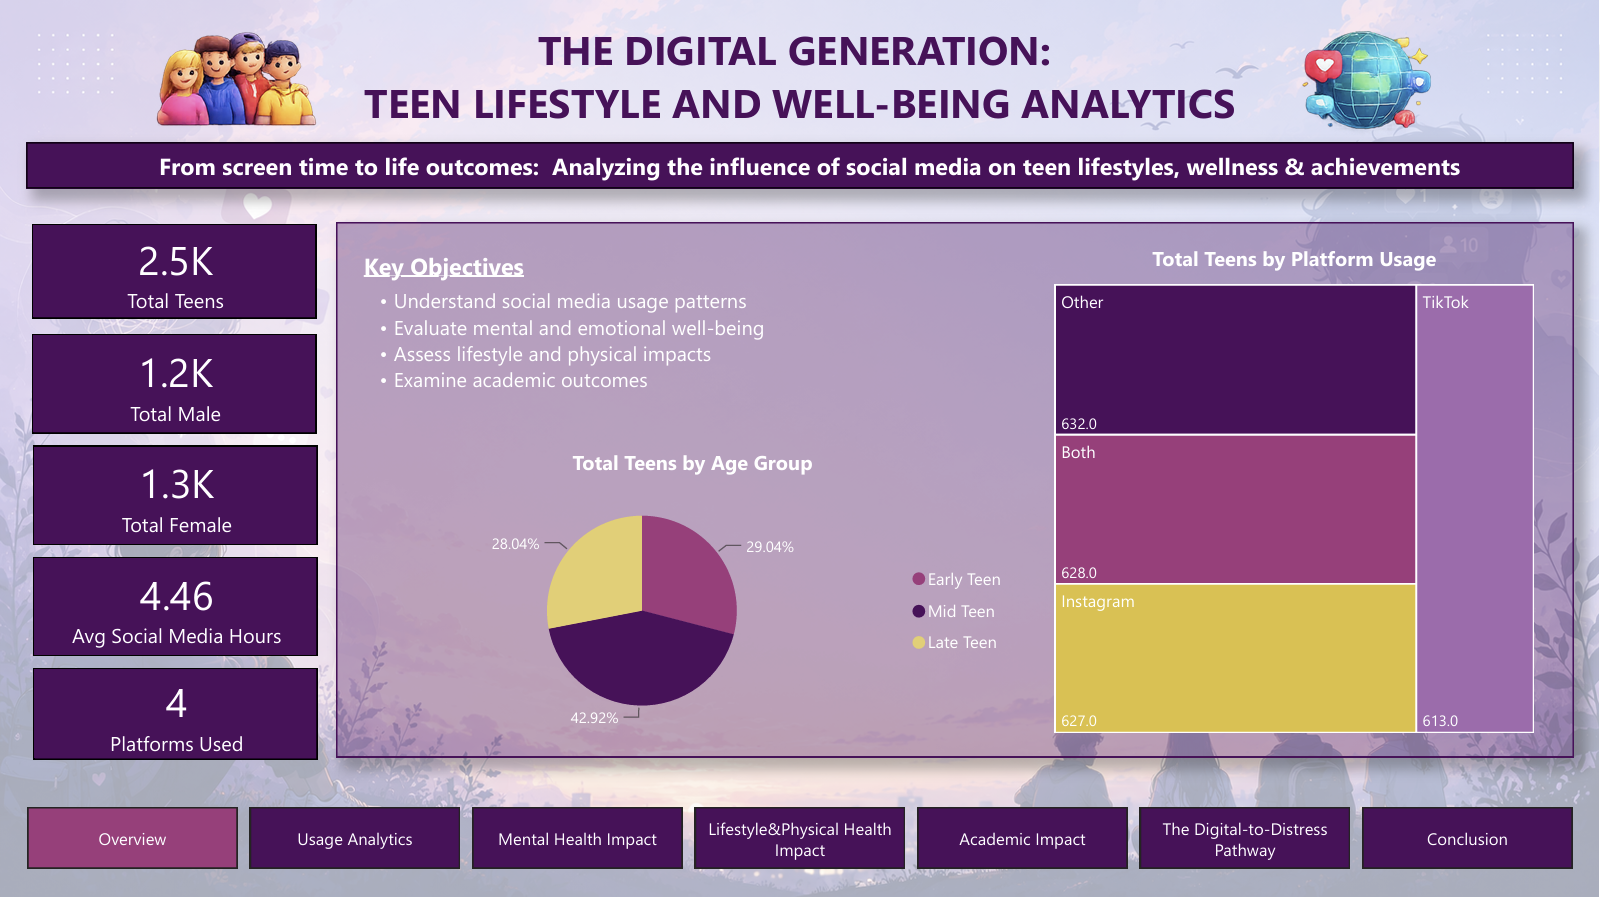

Layout of this report page (visuals, bound fields, positions):
{"tool":"powerbi","page":{"name":"Overview","canvas":[1280,720],"ordinal":0},"visuals":[{"type":"textbox","box":[21.5,11.3,1237.6,101.6],"z":0},{"type":"textbox","box":[21.5,112.9,1237.6,37.3],"z":1000},{"type":"shape","box":[269.1,177.1,990.3,428.1],"z":2000},{"type":"cardVisual","fields":{"Data":["DAX measures.Total Teens"]},"box":[21,174.1,237.1,85],"z":3000},{"type":"pieChart","fields":{"Category":["Teen_Mental_Health_Dataset.Age Group"],"Y":["DAX measures.Total Teens"]},"box":[293.1,348.1,522.2,242.1],"z":4000},{"type":"treemap","title":"Total Teens by Platform Usage","fields":{"Group":["Teen_Mental_Health_Dataset.Platform_usage"],"Values":["DAX measures.Total Teens"]},"box":[839.3,185.1,393.1,405.1],"z":5000},{"type":"textbox","title":"Key Objectives","box":[286.1,184.1,522.2,155],"z":6000},{"type":"pageNavigator","box":[21.6,644.7,1237.6,50],"z":7000},{"type":"cardVisual","fields":{"Data":["DAX measures.Total Male"]},"box":[21,262.1,237.1,89],"z":8000},{"type":"cardVisual","fields":{"Data":["DAX measures.Total Female"]},"box":[21.6,350.8,237.1,89.2],"z":9000},{"type":"cardVisual","fields":{"Data":["DAX measures.Avg Social Media Hours"]},"box":[21.6,440,237.1,89.2],"z":10000},{"type":"cardVisual","fields":{"Data":["DAX measures.Platforms Used"]},"box":[22,529.2,237.1,83],"z":11000},{"type":"image","box":[60,11,249.1,102],"z":12000},{"type":"image","box":[979.3,11,229.1,102],"z":13000}]}

Visuals, with their boxes in screenshot pixels (x1, y1, x2, y2), scaled from the page's 1280x720 canvas onto the 1600x897 screenshot:
textbox: select_region(27, 14, 1574, 141)
textbox: select_region(27, 141, 1574, 187)
shape: select_region(336, 221, 1574, 754)
cardVisual - DAX measures.Total Teens: select_region(26, 217, 323, 323)
pieChart - Teen_Mental_Health_Dataset.Age Group x DAX measures.Total Teens: select_region(366, 434, 1019, 735)
"Total Teens by Platform Usage" treemap: select_region(1049, 231, 1540, 735)
"Key Objectives" textbox: select_region(358, 229, 1010, 422)
pageNavigator: select_region(27, 803, 1574, 865)
cardVisual - DAX measures.Total Male: select_region(26, 327, 323, 437)
cardVisual - DAX measures.Total Female: select_region(27, 437, 323, 548)
cardVisual - DAX measures.Avg Social Media Hours: select_region(27, 548, 323, 659)
cardVisual - DAX measures.Platforms Used: select_region(28, 659, 324, 763)
image: select_region(75, 14, 386, 141)
image: select_region(1224, 14, 1510, 141)
